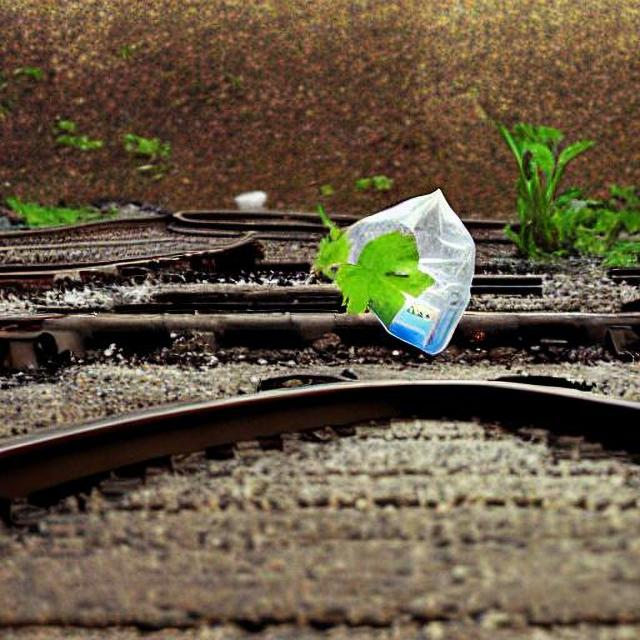plastic bag: (314, 188, 474, 344)
